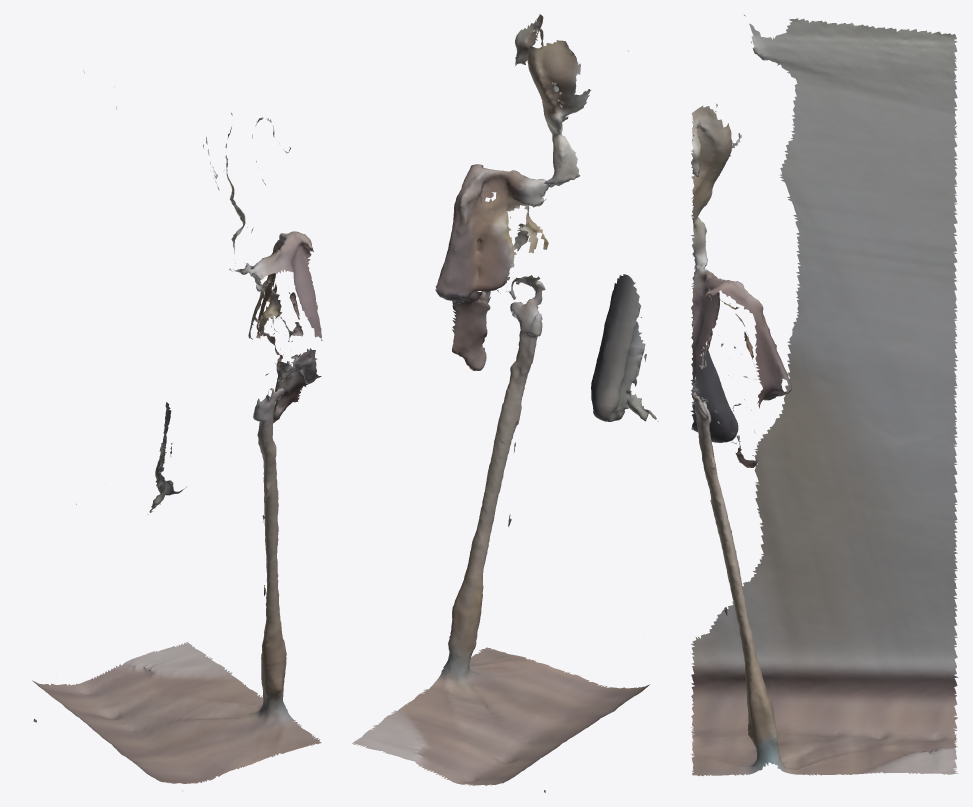
Rendered from apartment-full-72-b507e2503a64.glb.
The picture shows the model from 3 angles, left to right: view 1: azimuth 30°, elevation 25°; view 2: azimuth 150°, elevation 25°; view 3: azimuth 270°, elevation 25°; orthographic projection. The views are drawn at different scales.
Bounding box in the file's own units: 0.506 × 1.96 × 0.672.
